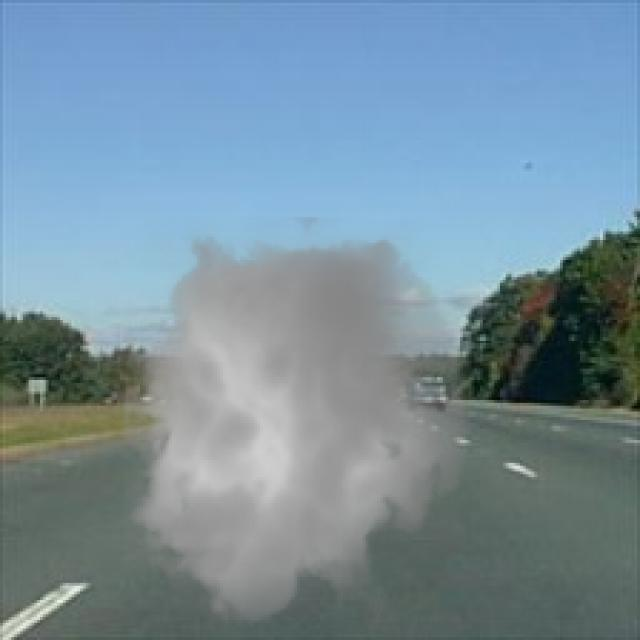Smoke: (108, 217, 486, 637)
